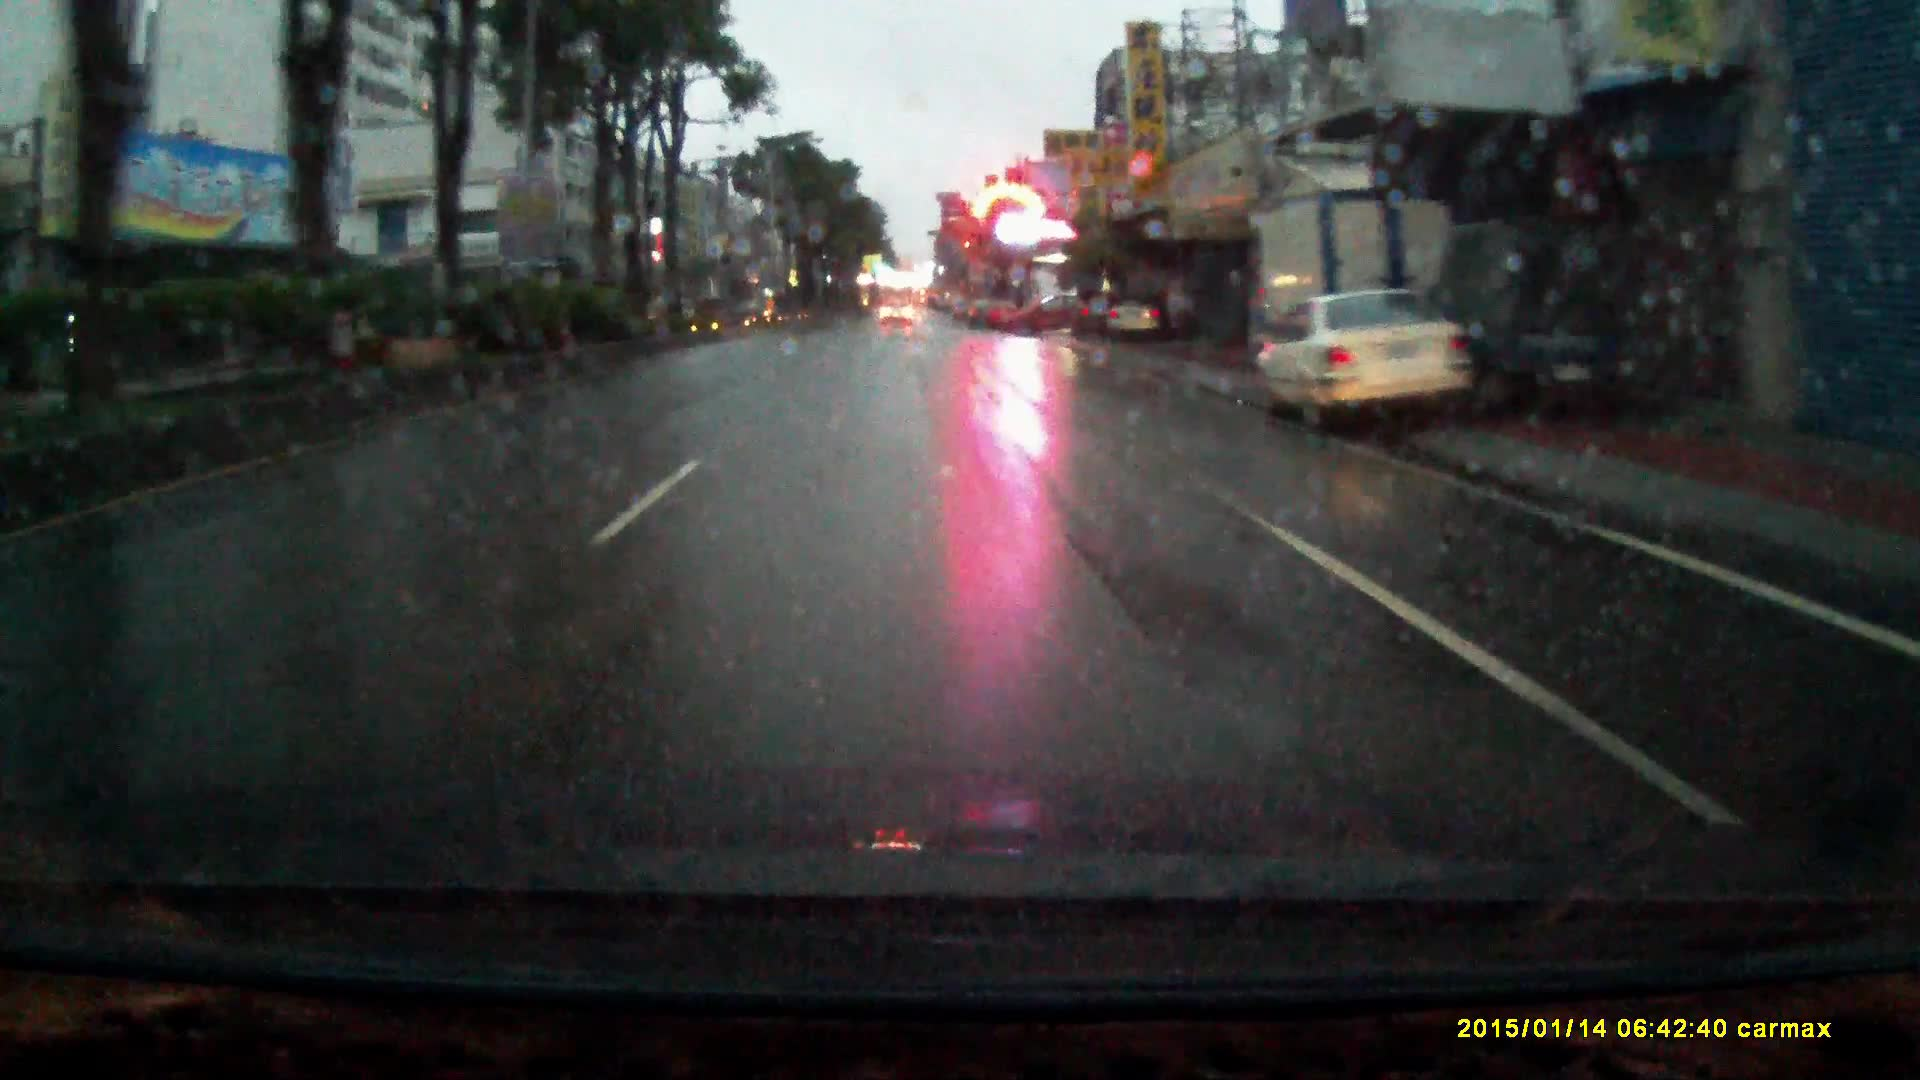vehicle: (1237, 167, 1503, 397), (1487, 214, 1709, 421), (1240, 284, 1485, 427), (998, 289, 1089, 336), (1093, 290, 1163, 340), (881, 297, 914, 328)
